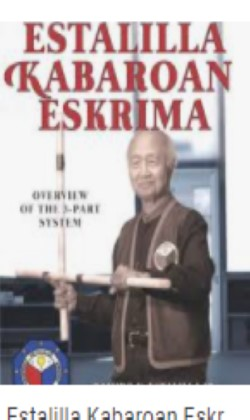baston_e: (30, 268, 162, 294), (56, 125, 66, 284)
baston_v: (53, 305, 81, 348), (156, 270, 176, 294), (11, 266, 27, 281), (54, 115, 68, 129)
